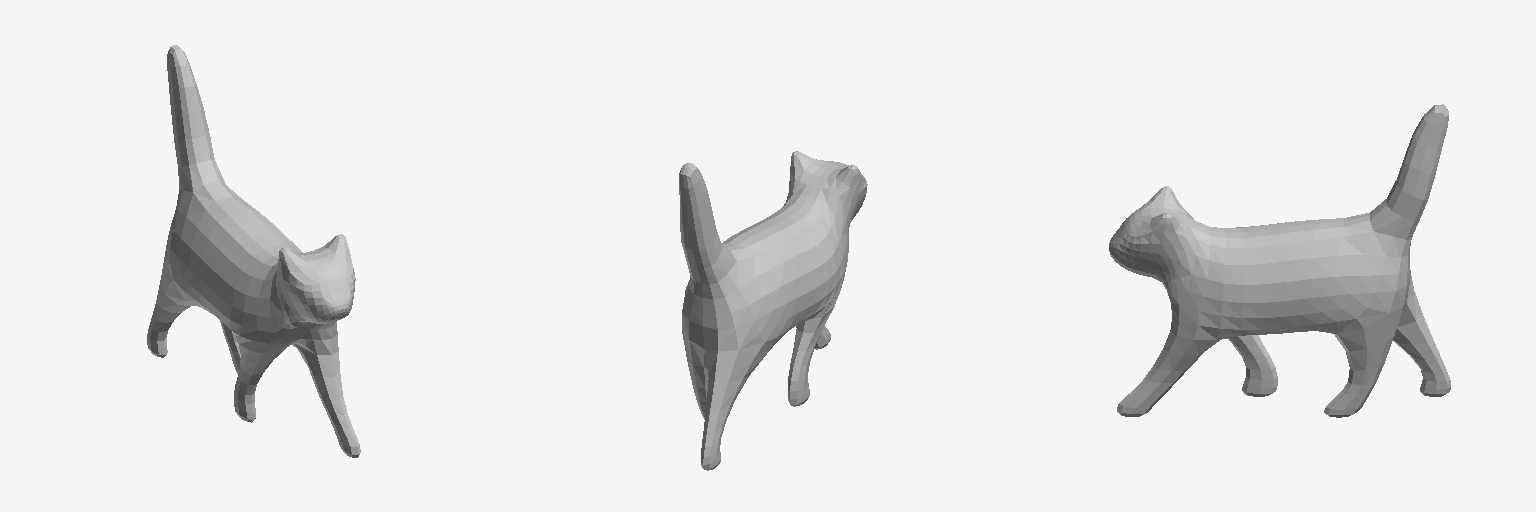
Rendered from Sammy.obj.
3 renders of one model, left to right at view 1: azimuth 30°, elevation 25°; view 2: azimuth 150°, elevation 25°; view 3: azimuth 270°, elevation 25°, orthographic.
Visible parts, largest first — view 1: Cube; view 2: Cube; view 3: Cube.
Boxes of the visible parts, x1,y1,x2,y2 form: Cube: [147, 45, 360, 457]; Cube: [679, 151, 867, 470]; Cube: [1109, 104, 1450, 417].
Bounding box in the file's own units: 2.32 × 7.77 × 8.